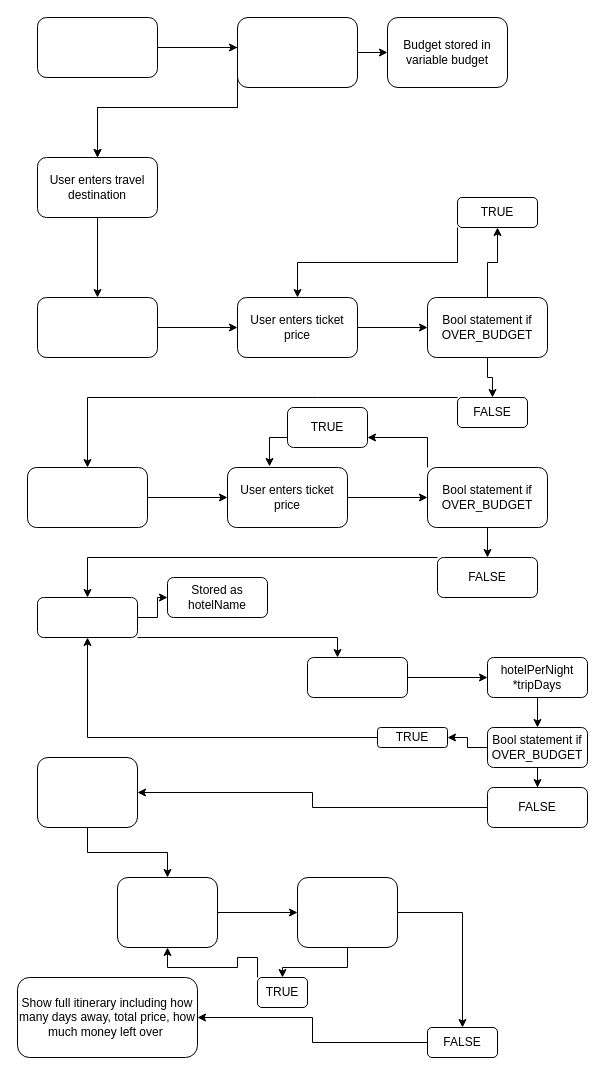
Image size: 605x1075. Some labels were removed from this diagram. The centre of each missing label's shape, as x and y in pixels:
Bool statement is OVER_BUDGET: (x=347, y=912)
Console App: (x=97, y=47)
User enters arrival date: (x=97, y=327)
user enters budget: (x=297, y=52)
User enters departure date: (x=87, y=497)
User enters hotel name: (x=87, y=617)
User enters list of excursions / points of interests: (x=87, y=792)
User enters price for a night at hotel: (x=357, y=677)
User enters price of each list item: (x=167, y=912)
